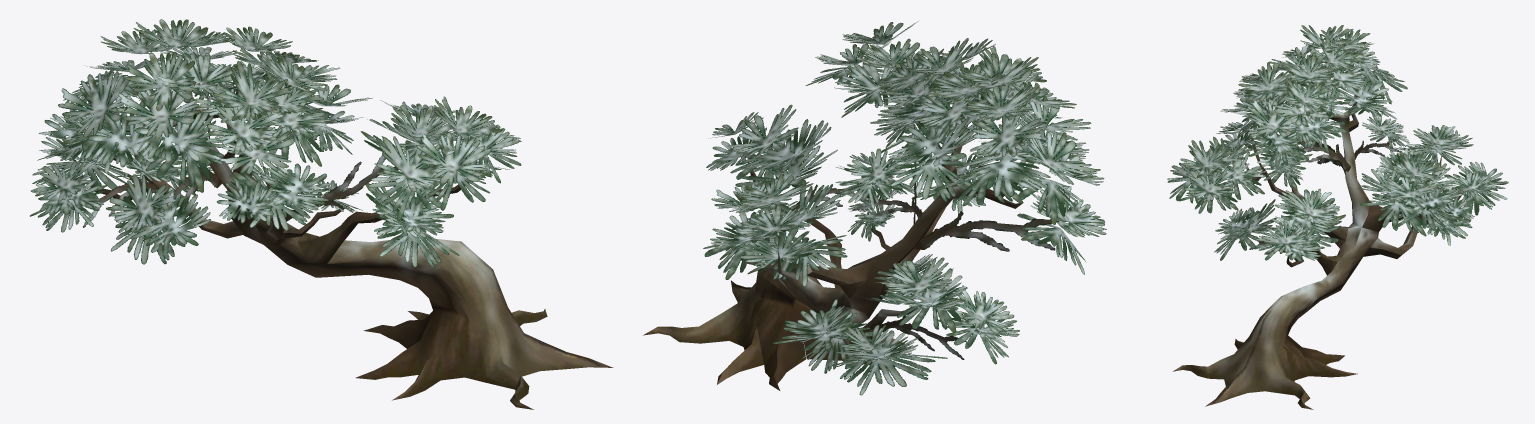
Rendered from map_114_shu_1.fbx.
3 renders of one model, left to right at view 1: azimuth 30°, elevation 25°; view 2: azimuth 150°, elevation 25°; view 3: azimuth 270°, elevation 25°, orthographic. The views are drawn at different scales.
Visible parts, largest first — view 1: map_114_shu_1; view 2: map_114_shu_1; view 3: map_114_shu_1.
Boxes of the visible parts, left/top/right/bottom form: map_114_shu_1: left=30, top=19, right=613, bottom=409; map_114_shu_1: left=643, top=21, right=1106, bottom=395; map_114_shu_1: left=1167, top=25, right=1508, bottom=409.
Bounding box in the file's own units: 4.16 × 3.06 × 4.
